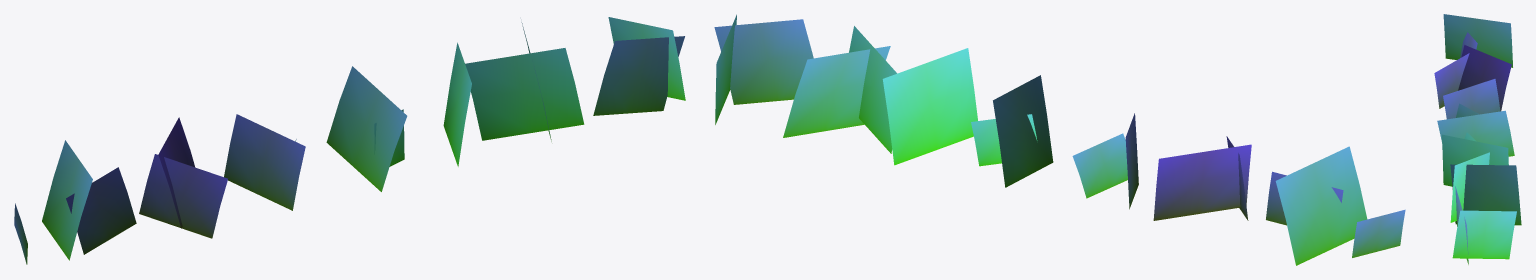
Rendered from weeds_crack_b.glb.
3 renders of one model, left to right at view 1: azimuth 30°, elevation 25°; view 2: azimuth 150°, elevation 25°; view 3: azimuth 270°, elevation 25°, orthographic. The views are drawn at different scales.
Visible parts, largest first — view 1: small_weeds_crack_b; view 2: small_weeds_crack_b; view 3: small_weeds_crack_b.
Boxes of the visible parts, bbox=[...] form: small_weeds_crack_b: bbox=[14, 17, 685, 264]; small_weeds_crack_b: bbox=[714, 14, 1405, 265]; small_weeds_crack_b: bbox=[1434, 14, 1521, 264].
Size of the model in its own units: 1.66 by 0.2282 by 0.2768.
